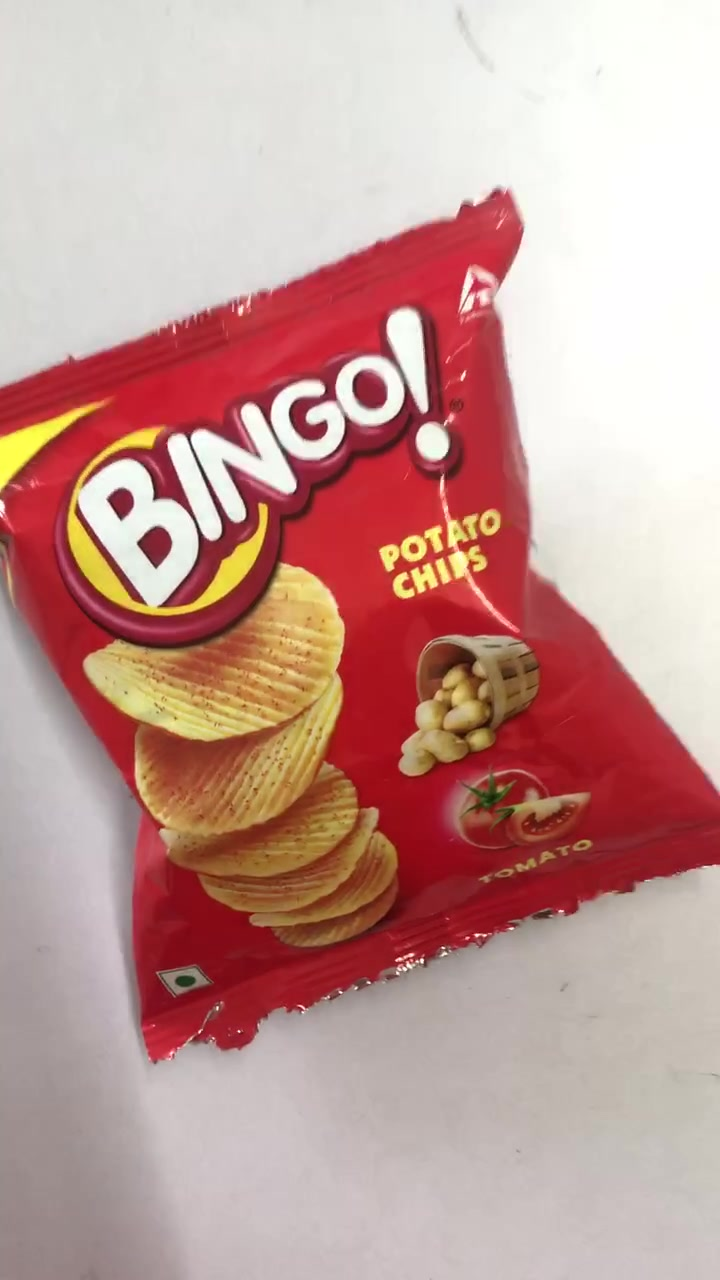Bingo: (8, 212, 720, 1037)
